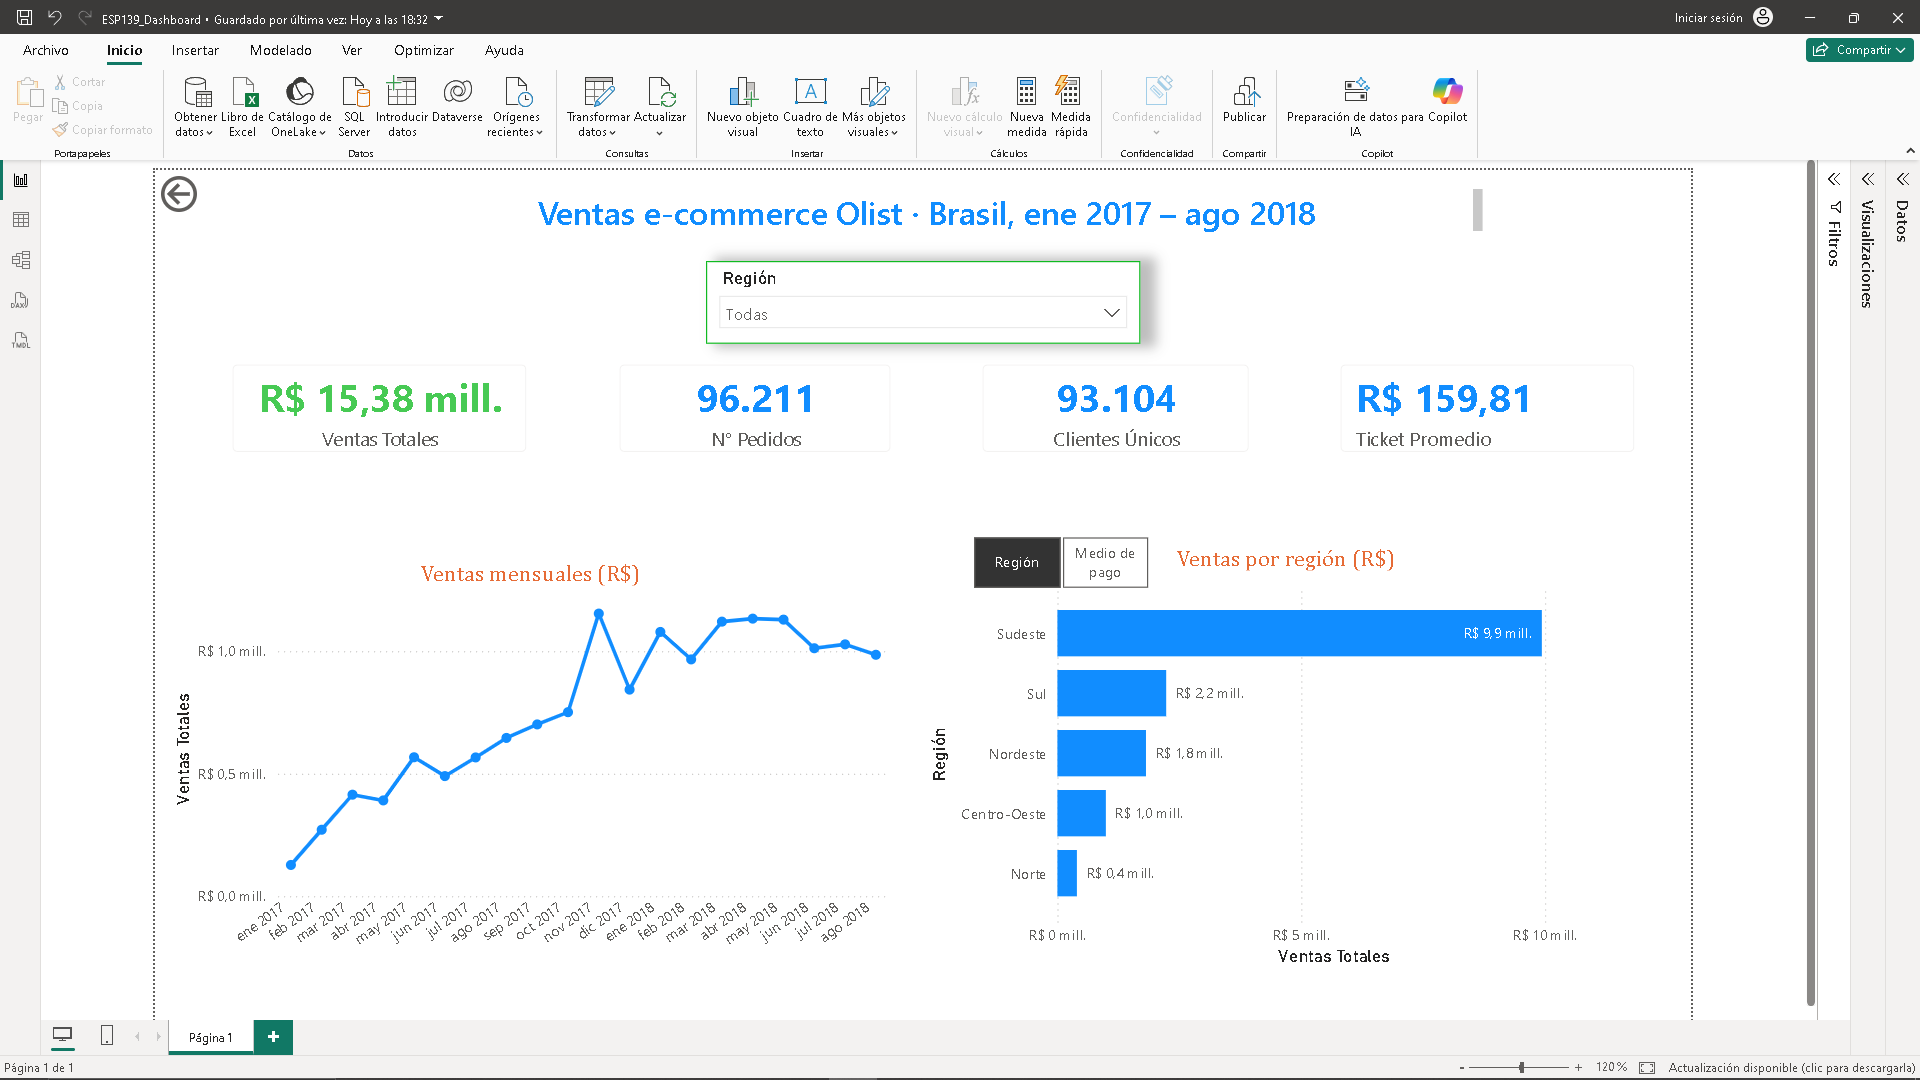

This screenshot's page, from the dashboard's own definition file:
{"tool":"powerbi","page":{"name":"Página 1","canvas":[1280,720],"ordinal":0},"visuals":[{"type":"textbox","box":[183,11,928,46],"z":0},{"type":"cardVisual","fields":{"Data":["Ventas.Ventas Totales"]},"box":[47.6,144.8,279.9,107.8],"z":1000},{"type":"cardVisual","fields":{"Data":["Ventas.N° Pedidos"]},"box":[369.8,144.8,260.2,107.8],"z":2000},{"type":"cardVisual","fields":{"Data":["Ventas.Clientes Únicos"]},"box":[672.1,144.8,256.2,107.8],"z":3000},{"type":"cardVisual","fields":{"Data":["Ventas.Ticket Promedio"]},"box":[970.5,144.8,279.9,107.8],"z":4000},{"type":"lineChart","title":"Ventas mensuales (R$)","fields":{"Category":["Calendario.Mes Año"],"Y":["Ventas.Ventas Totales"]},"box":[10,324,606,344],"z":5000},{"type":"clusteredBarChart","fields":{"Y":["Ventas.Ventas Totales"],"Category":["Ventas.Medio de Pago"]},"box":[640,312,605,356],"z":6000},{"type":"actionButton","box":[0,0,100,40],"z":6002},{"type":"slicer","fields":{"Values":["Ver por.Ver por"]},"box":[657,299,195,50],"z":6003},{"type":"slicer","fields":{"Values":["Ventas.Región"]},"box":[459,76,362,69],"z":6004}]}

Visuals, with their boxes on the page's 1280x720 design canvas (x1, y1, x2, y2). These are canvas units, not pixel positions in the 1920x1080 screenshot, which may show the page scaled, cropped or inside an application window:
textbox: bbox=[183, 11, 1111, 57]
cardVisual - Ventas.Ventas Totales: bbox=[48, 145, 328, 253]
cardVisual - Ventas.N° Pedidos: bbox=[370, 145, 630, 253]
cardVisual - Ventas.Clientes Únicos: bbox=[672, 145, 928, 253]
cardVisual - Ventas.Ticket Promedio: bbox=[970, 145, 1250, 253]
"Ventas mensuales (R$)" lineChart: bbox=[10, 324, 616, 668]
clusteredBarChart - Ventas.Ventas Totales x Ventas.Medio de Pago: bbox=[640, 312, 1245, 668]
actionButton: bbox=[0, 0, 100, 40]
slicer - Ver por.Ver por: bbox=[657, 299, 852, 349]
slicer - Ventas.Región: bbox=[459, 76, 821, 145]
